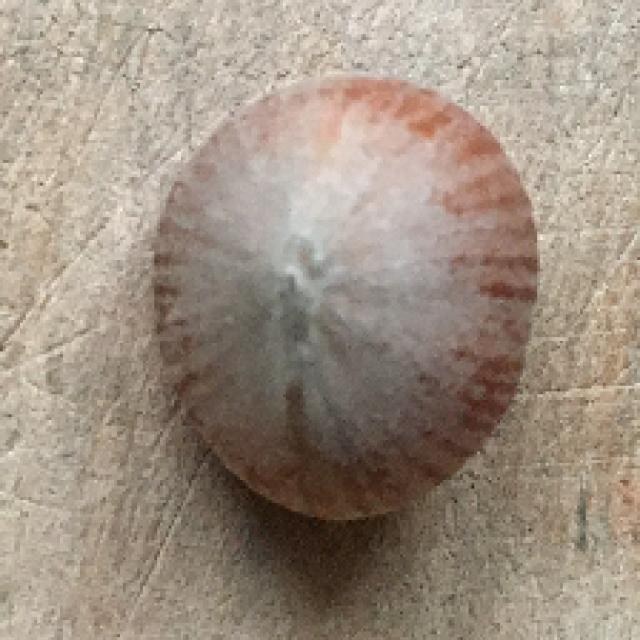qualityHazelnut: (156, 74, 538, 522)
